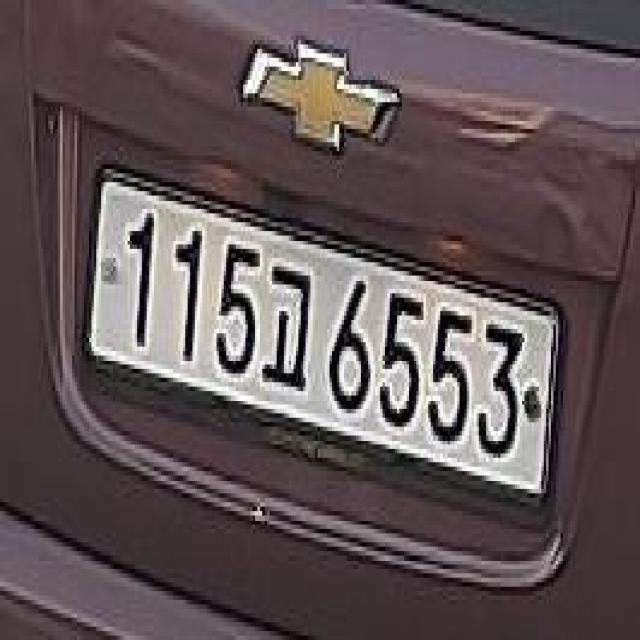illegal_plate: (82, 165, 562, 522)
